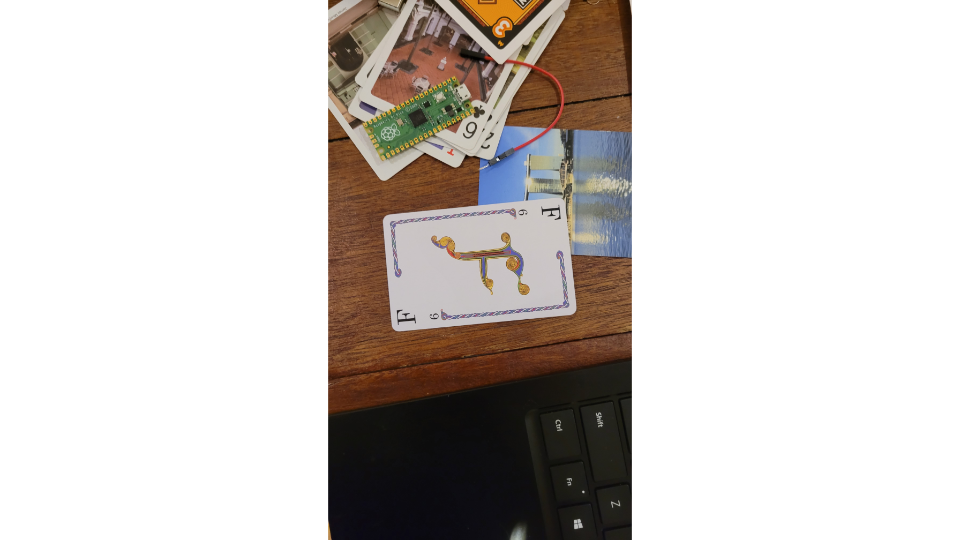F: (379, 196, 579, 333)
